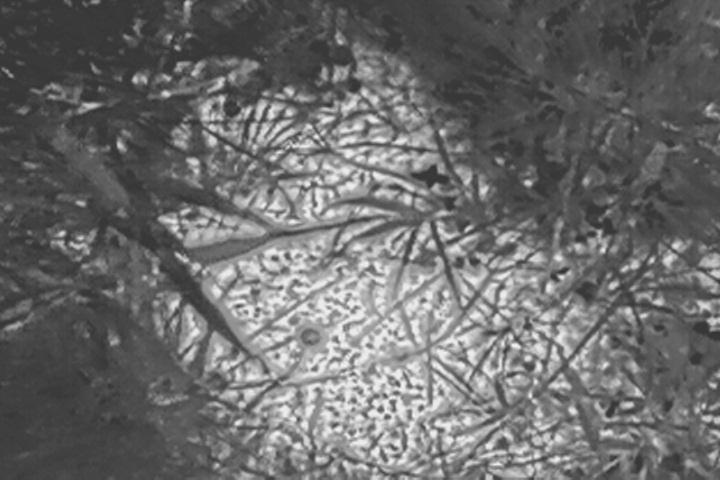landmine: (291, 319, 330, 355)
